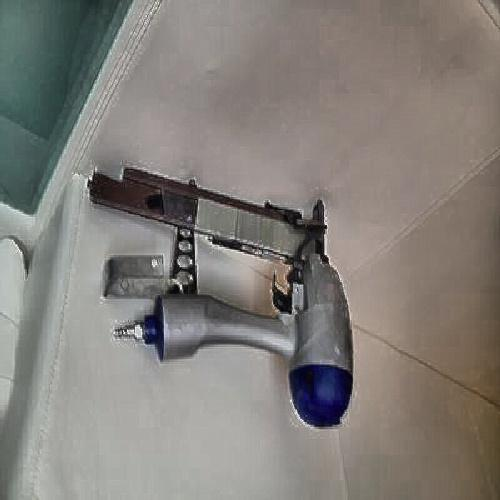stapler: (92, 153, 369, 440)
